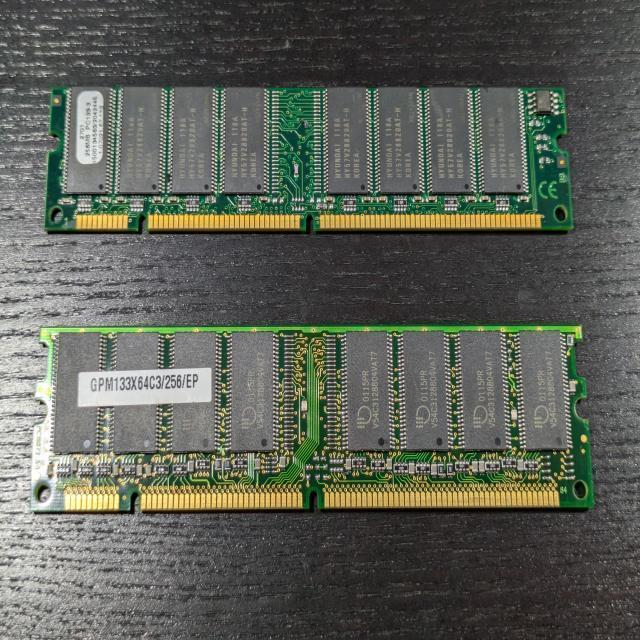RAM: (29, 325, 594, 515), (43, 85, 574, 233)
